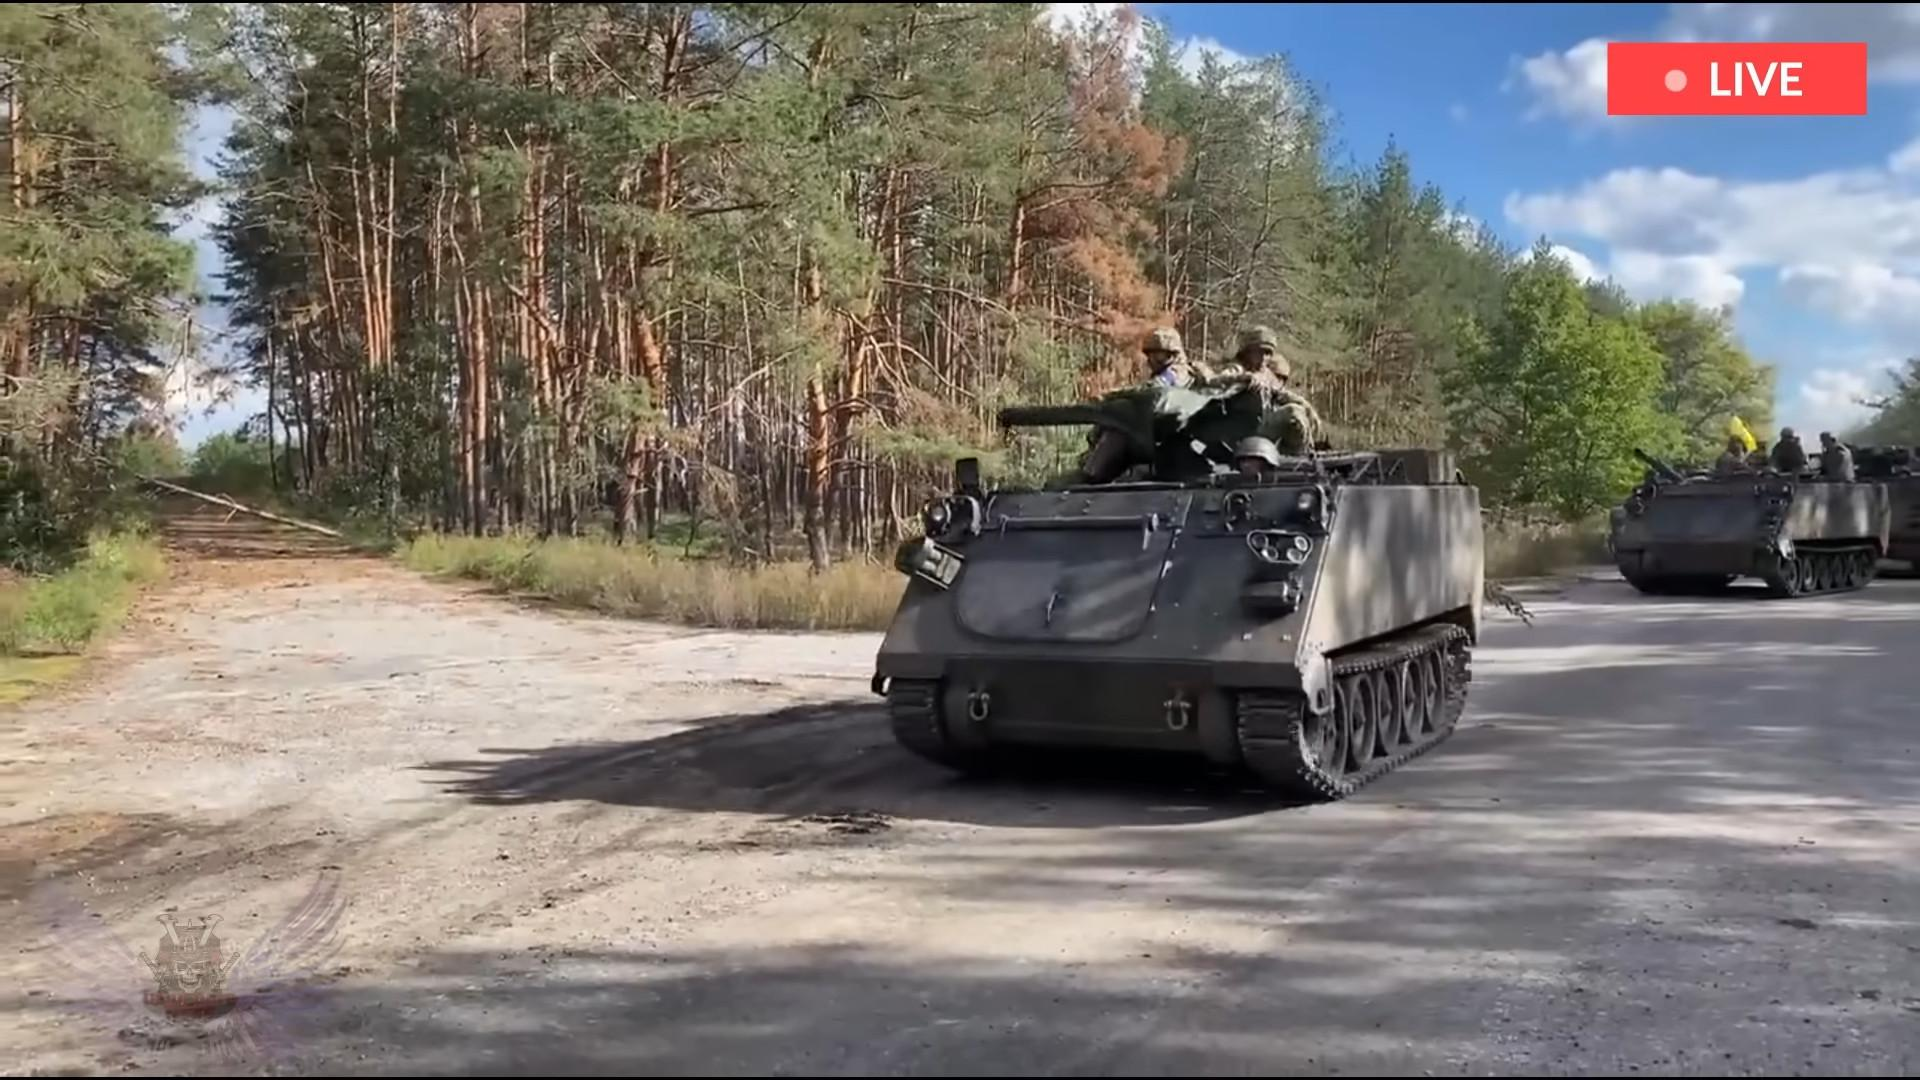tank: (870, 384, 1487, 806), (1607, 447, 1894, 597)
